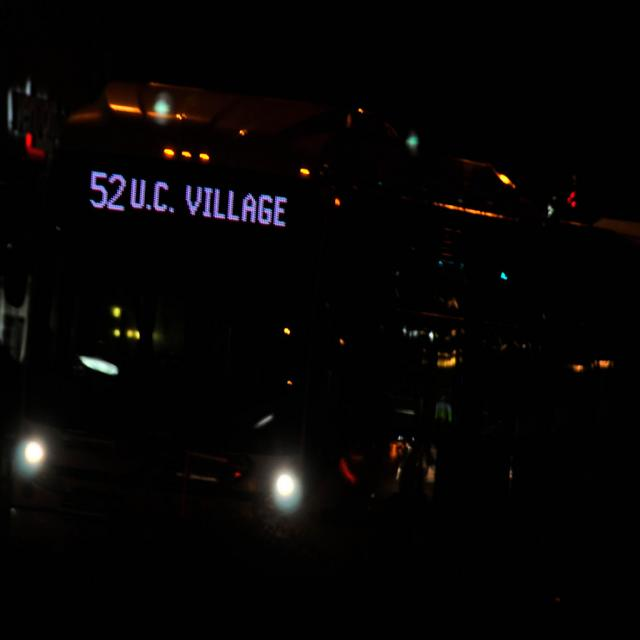Bus: (14, 75, 640, 612)
